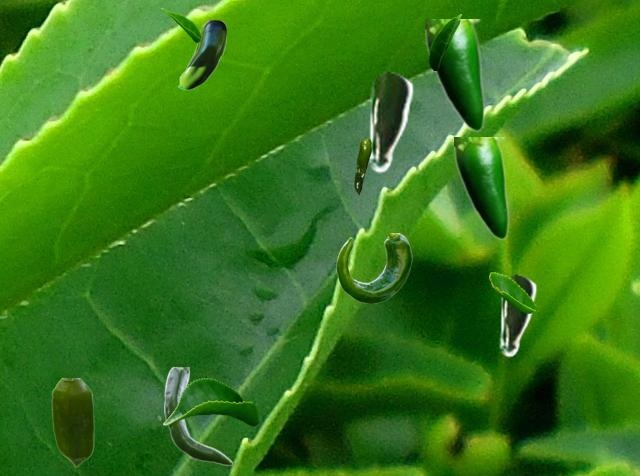green_chili: (425, 19, 484, 131), (164, 367, 232, 464), (454, 137, 508, 239), (336, 233, 411, 302), (365, 70, 413, 172), (51, 378, 93, 466), (177, 20, 225, 89), (497, 273, 536, 356), (354, 139, 370, 194)
